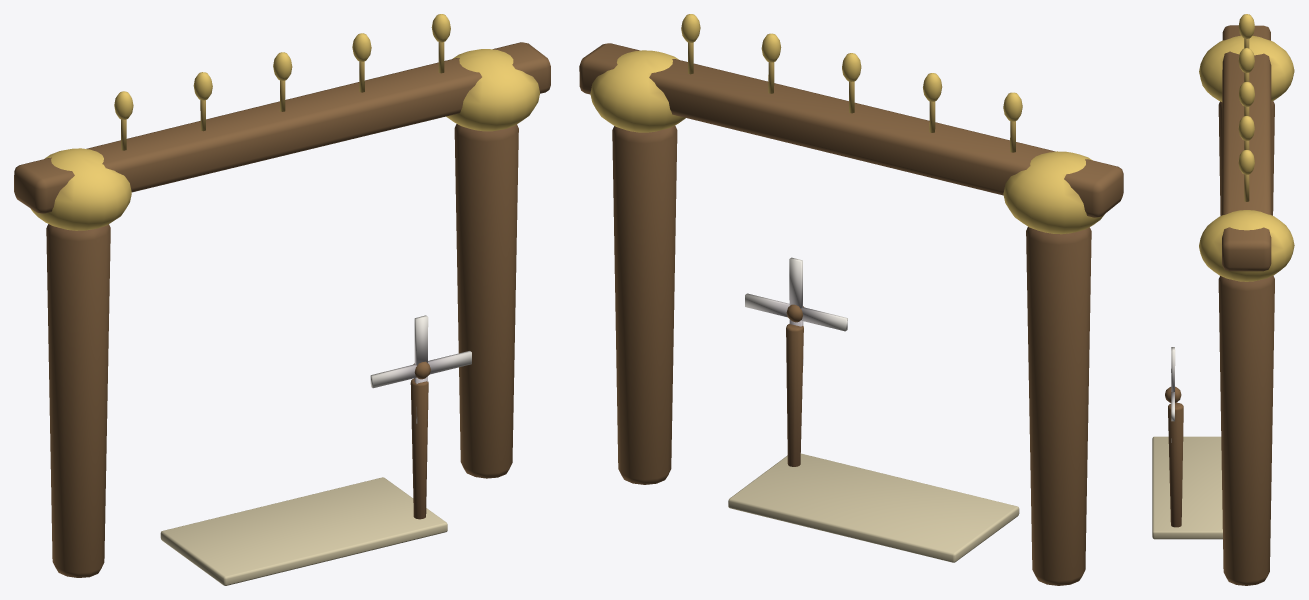
The picture shows the model from 3 angles, left to right: view 1: azimuth 30°, elevation 25°; view 2: azimuth 150°, elevation 25°; view 3: azimuth 270°, elevation 25°; orthographic projection. The views are drawn at different scales.
Visible parts, largest first — view 1: gate_238b4224; view 2: gate_238b4224; view 3: gate_238b4224.
Part boxes in pixels (bbox=[...]): gate_238b4224: bbox=[14, 14, 550, 585]; gate_238b4224: bbox=[579, 14, 1123, 585]; gate_238b4224: bbox=[1152, 14, 1294, 585].
Bounding box in the file's own units: 5.52 × 4.8 × 1.5.
